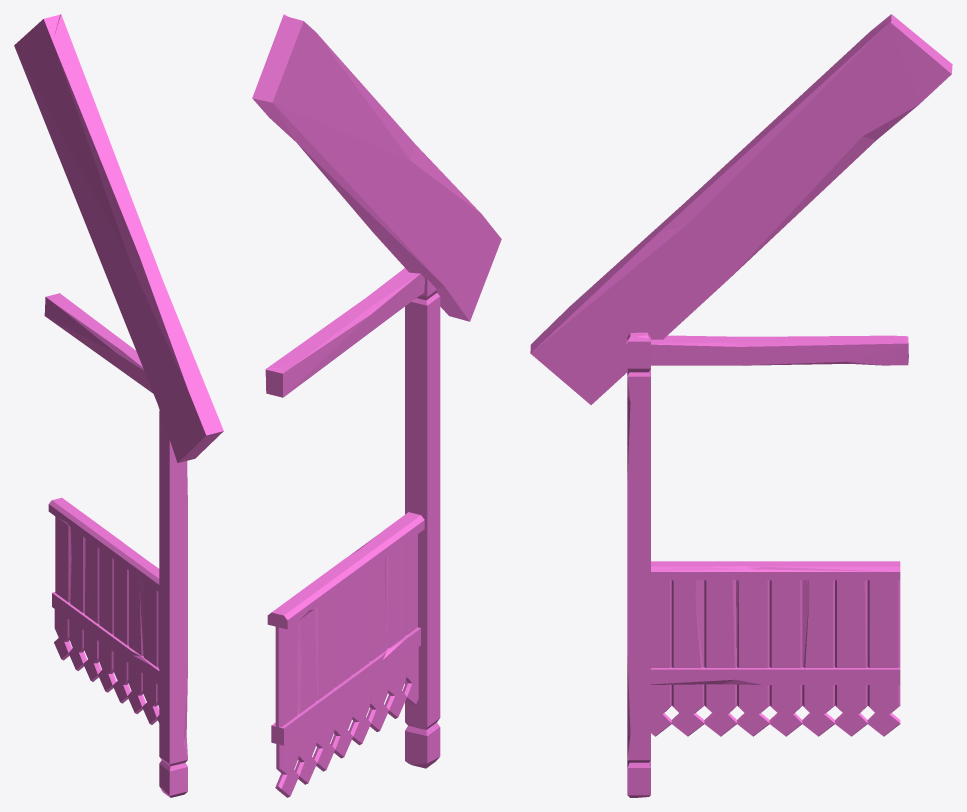
Rendered from SM_Gallery_Roof_Support_End_A_Fantasy.fbx.
The picture shows the model from 3 angles, left to right: view 1: azimuth 30°, elevation 25°; view 2: azimuth 150°, elevation 25°; view 3: azimuth 270°, elevation 25°; orthographic projection. The views are drawn at different scales.
Visible parts, largest first — view 1: SM_Gallery_Roof_Support_End_A_Fantasy; view 2: SM_Gallery_Roof_Support_End_A_Fantasy; view 3: SM_Gallery_Roof_Support_End_A_Fantasy.
Boxes of the visible parts, x1,y1,x2,y2 form: SM_Gallery_Roof_Support_End_A_Fantasy: [14, 14, 223, 797]; SM_Gallery_Roof_Support_End_A_Fantasy: [252, 14, 501, 797]; SM_Gallery_Roof_Support_End_A_Fantasy: [530, 14, 952, 797].
Size of the model in its own units: 0.2697 by 6.53 by 3.23.
